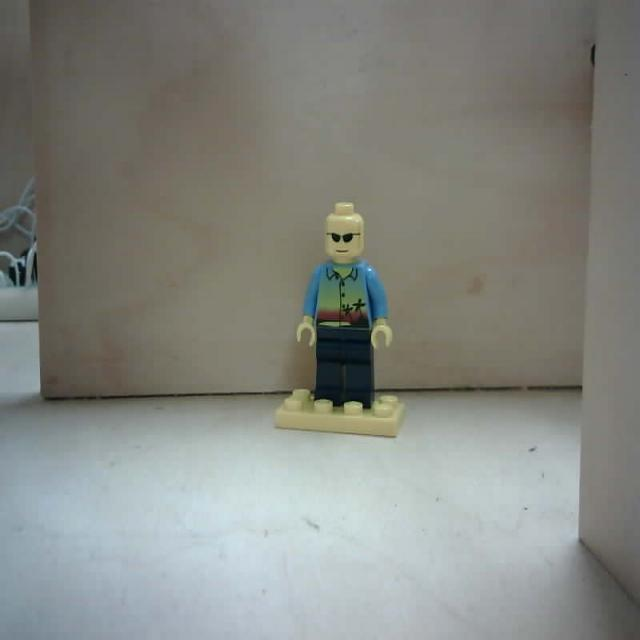Lego-People: (274, 204, 407, 440)
